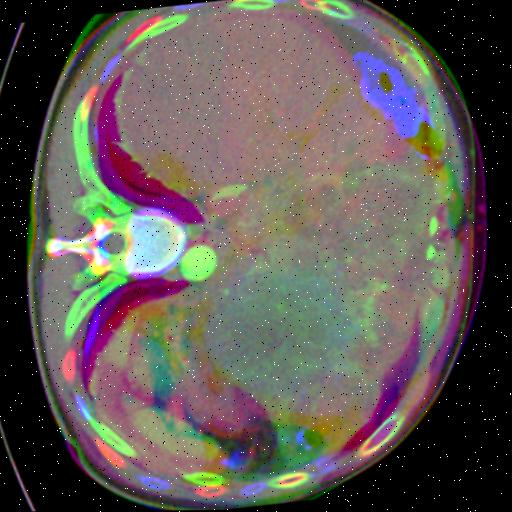Tumor: (287, 164, 439, 290)
